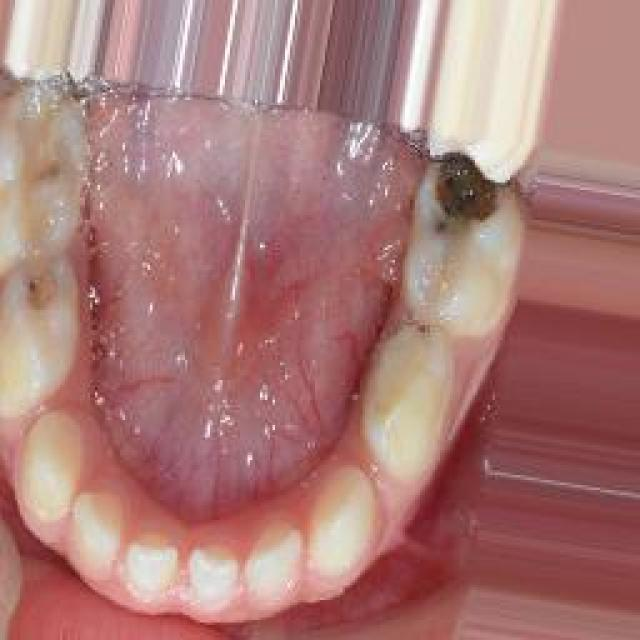decay: (430, 135, 511, 236)
